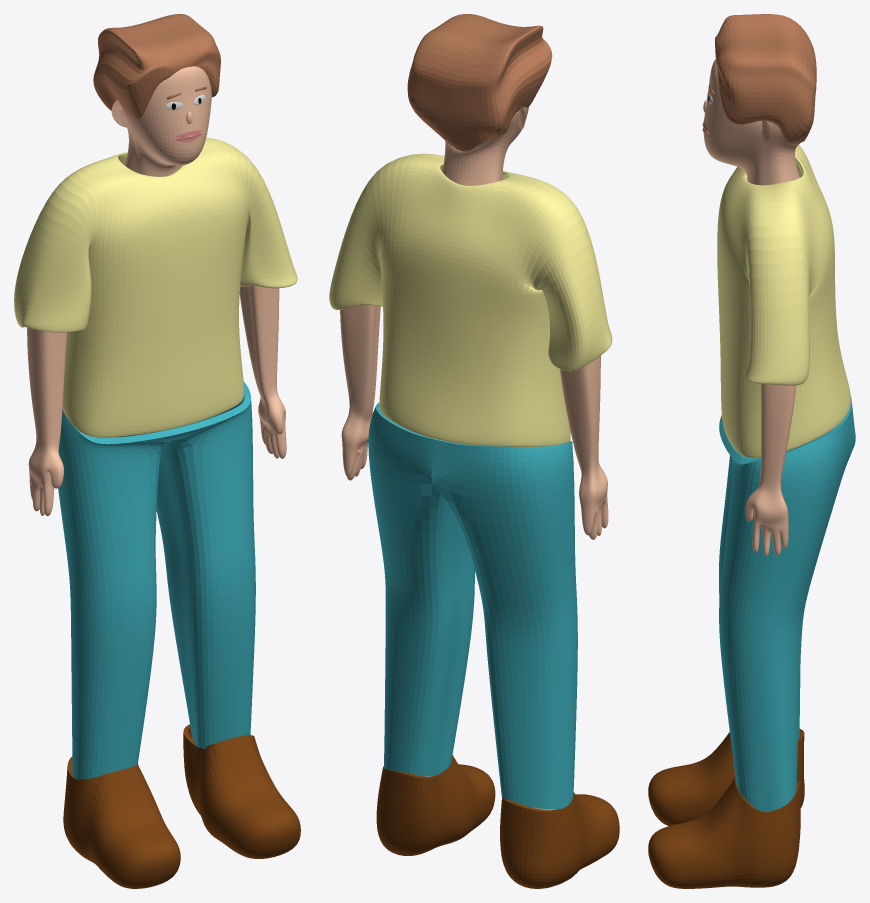
The model's file is HombreN.glb.
3 renders of one model, left to right at view 1: azimuth 30°, elevation 25°; view 2: azimuth 150°, elevation 25°; view 3: azimuth 270°, elevation 25°, orthographic. The views are drawn at different scales.
Visible parts, largest first — view 1: camisa, pantalon, zapatos, Cube, Cube.001; view 2: pantalon, camisa, zapatos, Cube.001, Cube; view 3: camisa, pantalon, zapatos, Cube.001, Cube.
Boxes of the visible parts, left/top/right/bottom form: camisa: left=14, top=138, right=297, bottom=437; pantalon: left=58, top=381, right=255, bottom=779; zapatos: left=63, top=724, right=300, bottom=888; Cube: left=27, top=66, right=286, bottom=739; Cube.001: left=93, top=14, right=220, bottom=119; pantalon: left=368, top=402, right=577, bottom=809; camisa: left=329, top=153, right=612, bottom=446; zapatos: left=376, top=755, right=619, bottom=888; Cube.001: left=407, top=14, right=552, bottom=151; Cube: left=340, top=107, right=608, bottom=810; camisa: left=717, top=145, right=850, bottom=458; pantalon: left=719, top=396, right=855, bottom=811; zapatos: left=648, top=729, right=804, bottom=888; Cube.001: left=715, top=14, right=816, bottom=143; Cube: left=703, top=59, right=800, bottom=811.
Size of the model in its own units: 6.08 by 17.73 by 4.08.
